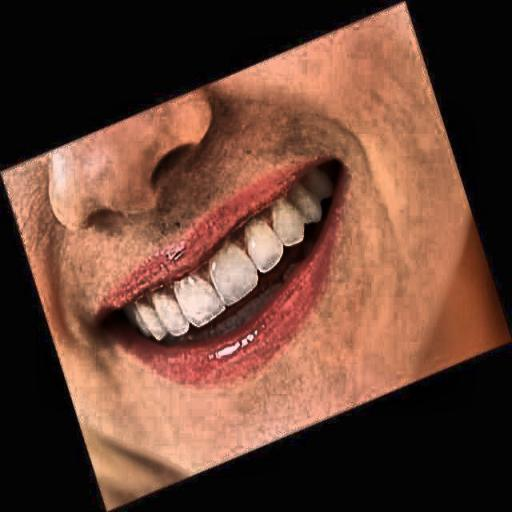Healthy: (108, 167, 376, 410)
